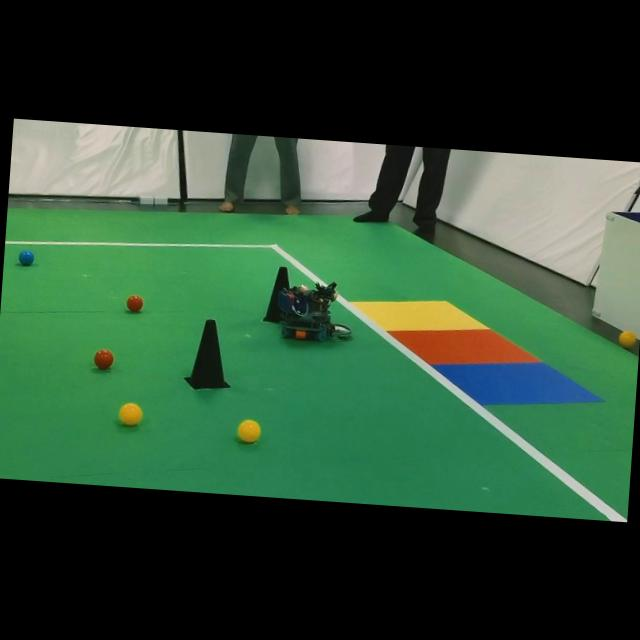ball: (119, 402, 142, 424), (237, 420, 260, 441), (93, 349, 113, 368), (126, 294, 143, 312), (18, 249, 34, 265)
goal: (433, 362, 601, 404), (389, 329, 538, 364), (353, 301, 489, 331)
